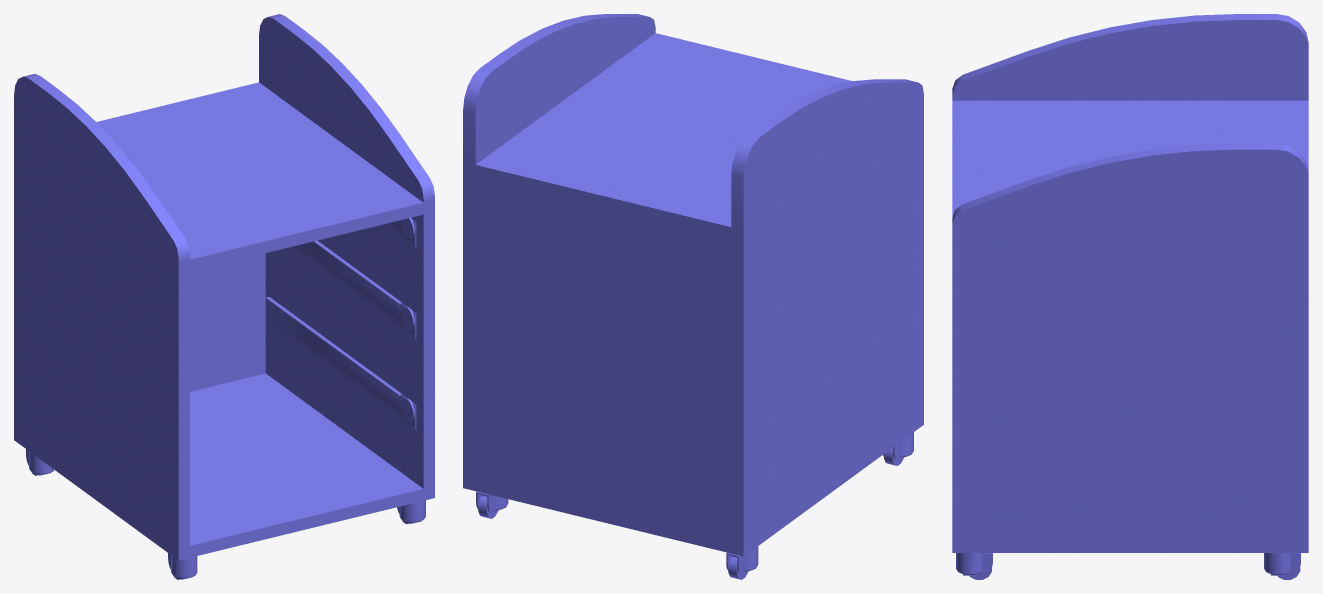
File: SM_Locker_3.fbx
3 views of the same model, side by side, from view 1: azimuth 30°, elevation 25°; view 2: azimuth 150°, elevation 25°; view 3: azimuth 270°, elevation 25° (orthographic). The views are drawn at different scales.
Visible parts, largest first — view 1: SM_Locker_3; view 2: SM_Locker_3; view 3: SM_Locker_3.
Part boxes in pixels (x1,y1,x2,y2): SM_Locker_3: [14, 14, 434, 579]; SM_Locker_3: [463, 14, 923, 579]; SM_Locker_3: [952, 14, 1308, 579].
Size of the model in its own units: 45 by 67.46 by 50.
1 material, 1 textured.
